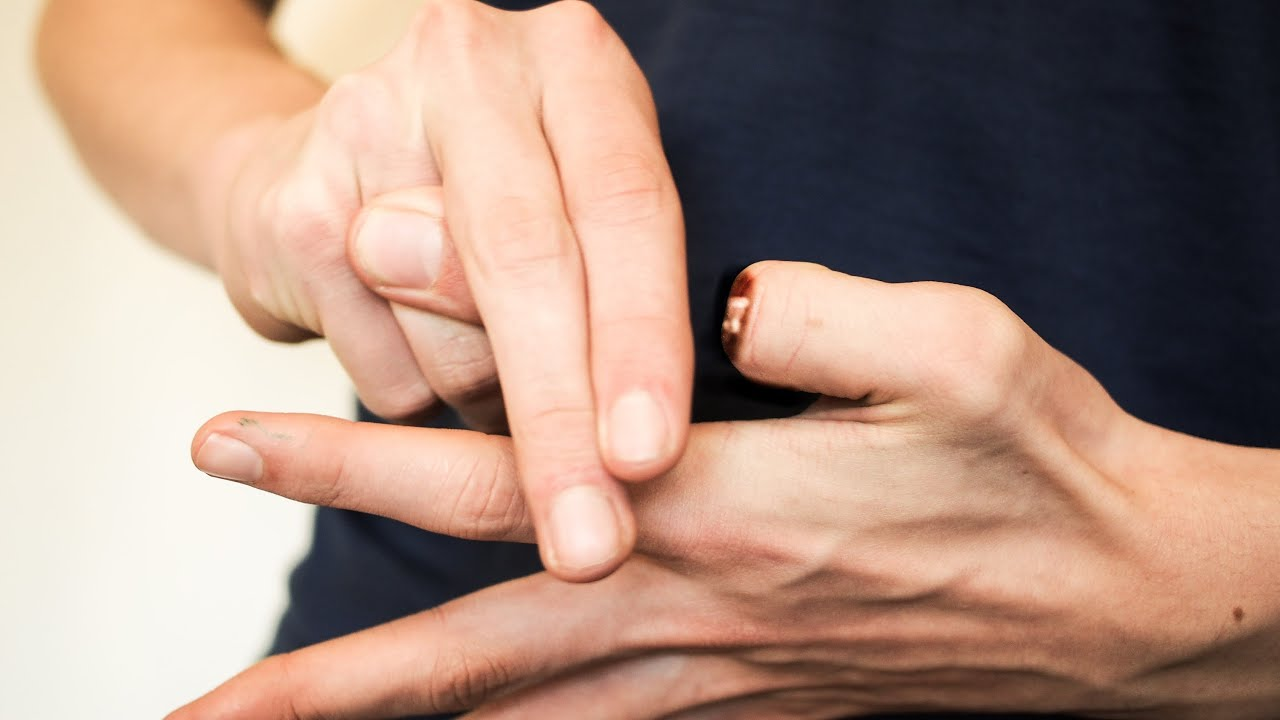finger: (452, 96, 647, 582), (167, 401, 685, 544), (551, 32, 703, 483), (171, 574, 642, 717), (293, 199, 428, 410)
